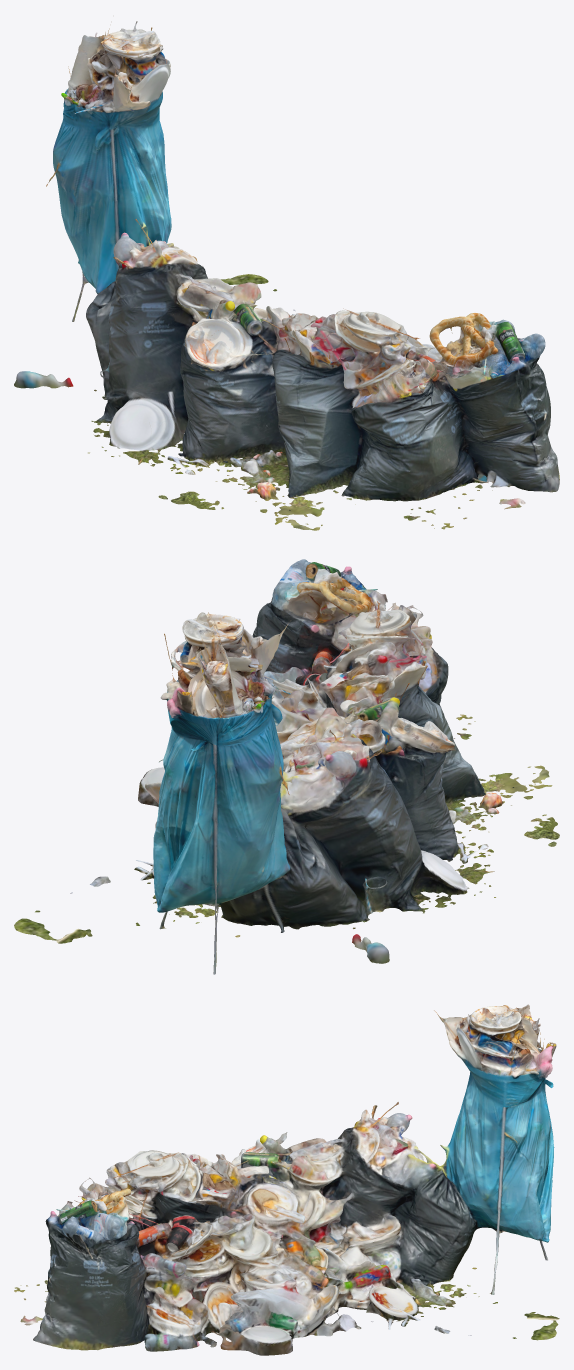
The model's file is food_garbage.glb.
3 renders of one model, top to bottom at view 1: azimuth 30°, elevation 25°; view 2: azimuth 150°, elevation 25°; view 3: azimuth 270°, elevation 25°, orthographic. The views are drawn at different scales.
Visible parts, largest first — view 1: Object_5, Object_4, Object_6, Object_7; view 2: Object_5, Object_4, Object_6, Object_7; view 3: Object_6, Object_4, Object_5.
Part boxes in pixels (left/top/right/bottom): Object_5: left=44, top=21, right=557, bottom=484; Object_4: left=14, top=35, right=559, bottom=530; Object_6: left=59, top=21, right=558, bottom=530; Object_7: left=432, top=330, right=544, bottom=381; Object_5: left=145, top=584, right=468, bottom=953; Object_4: left=14, top=562, right=559, bottom=974; Object_6: left=94, top=559, right=555, bottom=944; Object_7: left=296, top=561, right=376, bottom=612; Object_6: left=34, top=1007, right=556, bottom=1350; Object_4: left=14, top=1004, right=559, bottom=1355; Object_5: left=40, top=1005, right=553, bottom=1338.
Bounding box in the file's own units: 1.53 × 1.29 × 2.37.
1 material, 1 textured.
